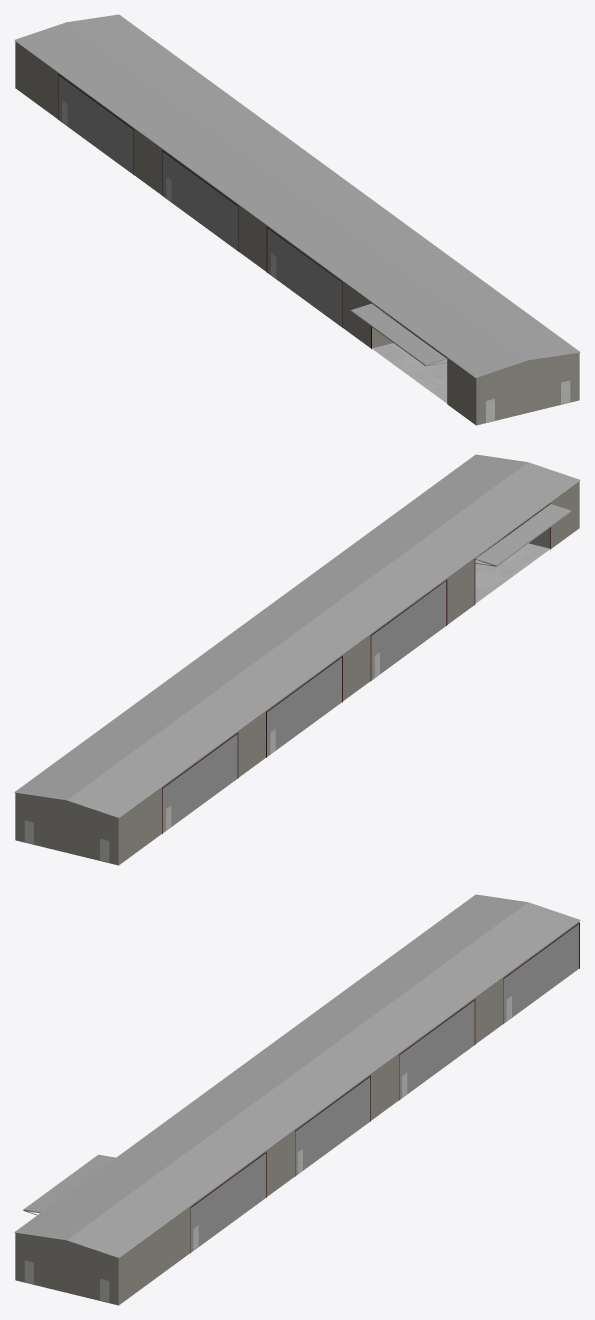
Rendered from gen_open_hangar03-85x11x5-cbj_LOD03.gltf.
3 renders of one model, top to bottom at view 1: azimuth 30°, elevation 25°; view 2: azimuth 150°, elevation 25°; view 3: azimuth 330°, elevation 25°, orthographic.
Parts seen in each view (by area): view 1: Cube.016; view 2: Cube.016; view 3: Cube.016.
Boxes of the visible parts, x1=… form: Cube.016: x1=14, y1=14, x2=580, y2=425; Cube.016: x1=14, y1=454, x2=580, y2=865; Cube.016: x1=14, y1=894, x2=580, y2=1305.
Bounding box in the file's own units: 13.37 × 5.4 × 85.2.
